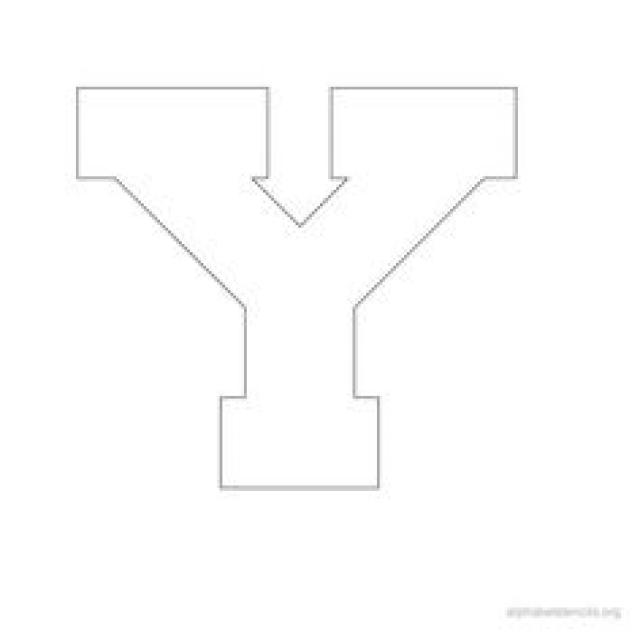Y: (47, 28, 562, 562)
